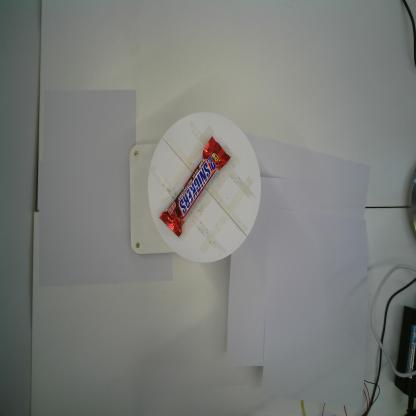Chocolate: (158, 134, 232, 240)
